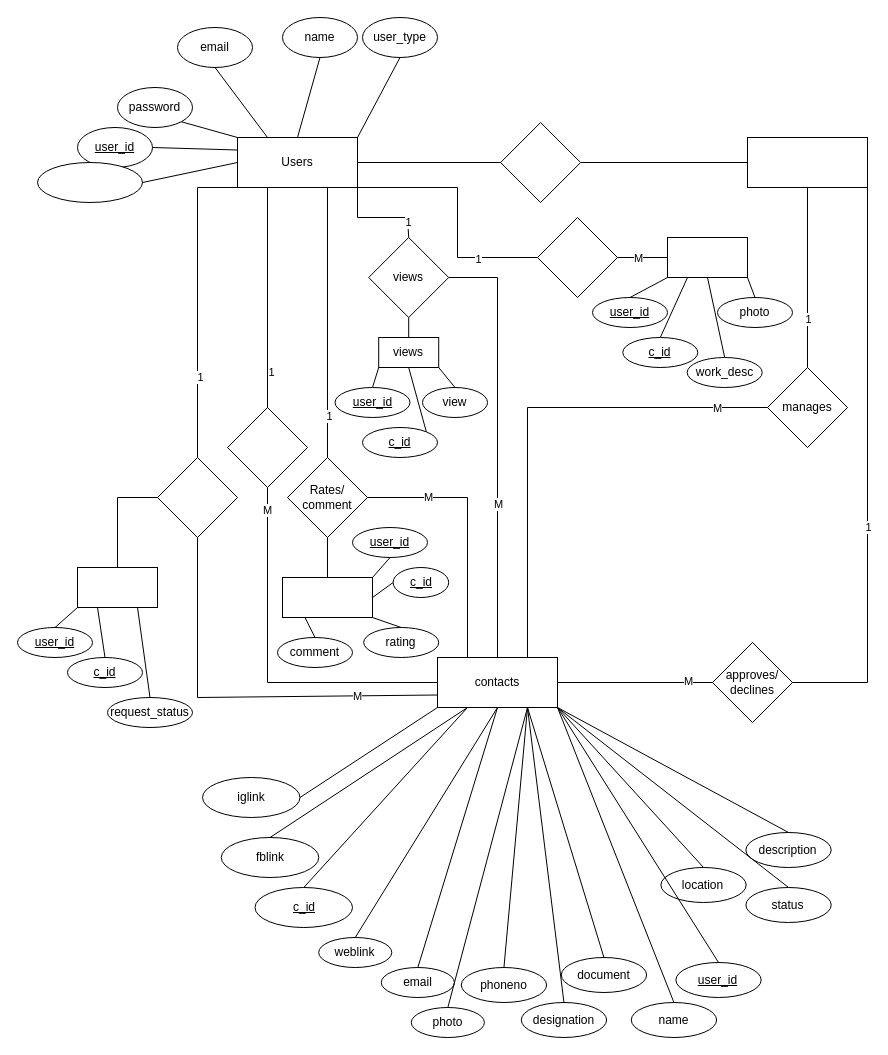
Some shapes in this 888 by 1055 pixel diagram are drawn without their labels. Each missing label, with the centre of its shape:
"adds" goes at point (577, 257).
"Admin" goes at point (807, 162).
"applies for" goes at point (267, 447).
"connected" goes at point (117, 587).
"has" goes at point (540, 162).
"phone_number" goes at point (89, 182).
"rating_comment" goes at point (327, 597).
"sends work request" goes at point (197, 497).
"works" goes at point (707, 257).
